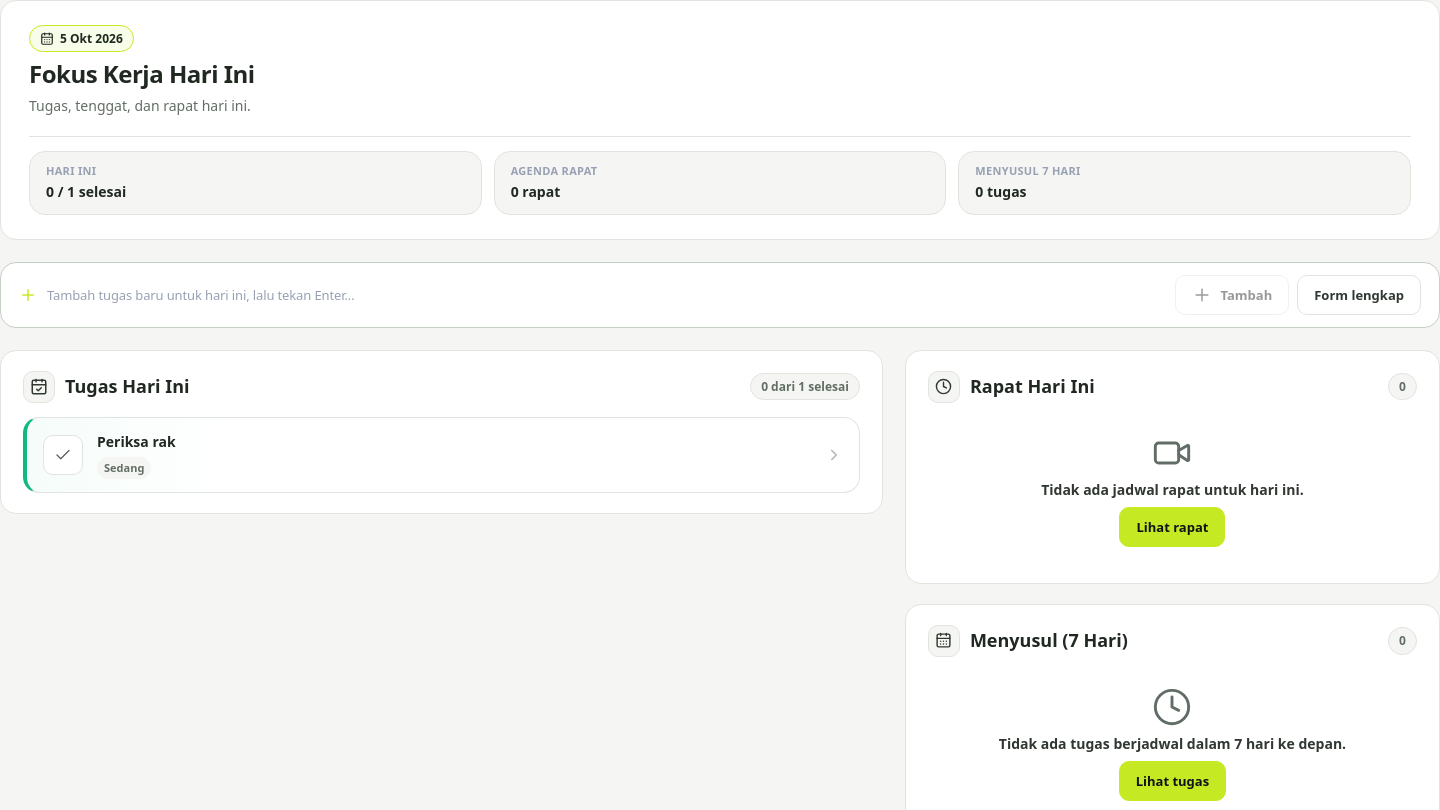
Test case: gagal menyimpan status tidak menyediakan undo yang mengklaim sukses
Click the button named "Tandai selesai: Periksa rak" at (63,455), box left=43, top=435, right=83, bottom=475
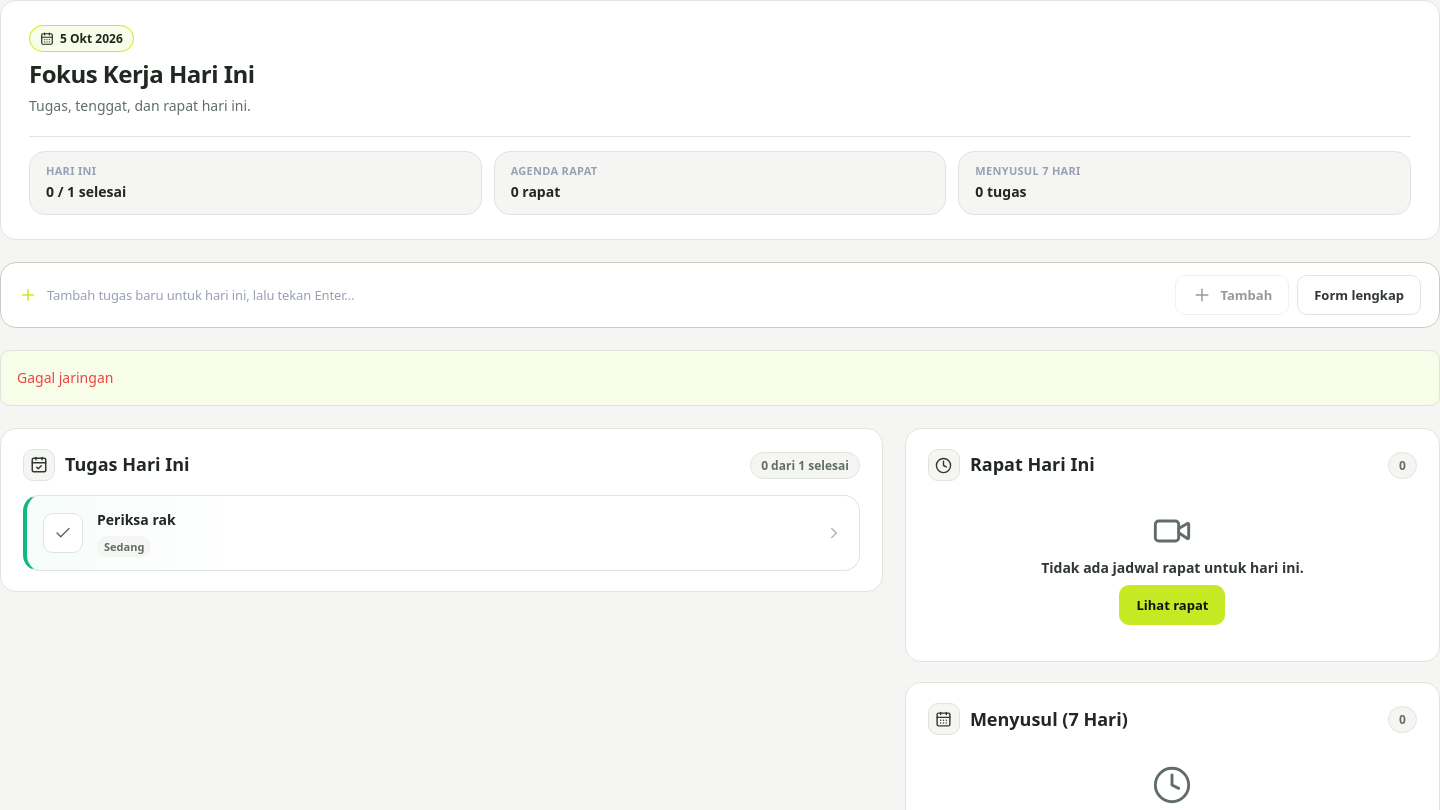
Check: the message "Gagal jaringan" is shown, box left=0, top=350, right=1439, bottom=406
